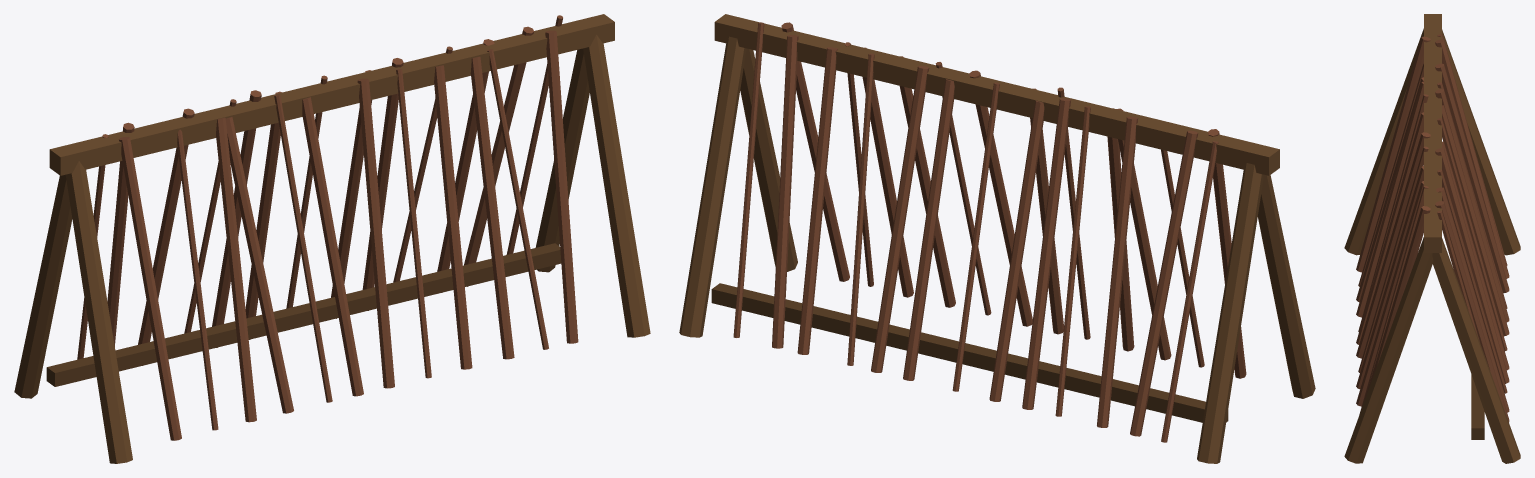
File: iron-stock-a.glb
3 views of the same model, side by side, from view 1: azimuth 30°, elevation 25°; view 2: azimuth 150°, elevation 25°; view 3: azimuth 270°, elevation 25° (orthographic). The views are drawn at different scales.
Visible parts, largest first — view 1: Body_Metal, Body_Wood, Body_WoodDark; view 2: Body_Metal, Body_Wood, Body_WoodDark; view 3: Body_Metal, Body_Wood, Body_WoodDark.
Boxes of the visible parts, box(x1,y1,x2,y2) form: Body_Metal: box(77, 15, 578, 440); Body_Wood: box(14, 14, 650, 463); Body_WoodDark: box(46, 243, 561, 386); Body_Metal: box(733, 22, 1246, 442); Body_Wood: box(679, 14, 1315, 463); Body_WoodDark: box(711, 283, 1228, 422); Body_Metal: box(1356, 34, 1509, 421); Body_Wood: box(1344, 14, 1520, 463); Body_WoodDark: box(1471, 374, 1484, 439).
Size of the model in its own units: 2.4 by 1.2 by 0.8.
